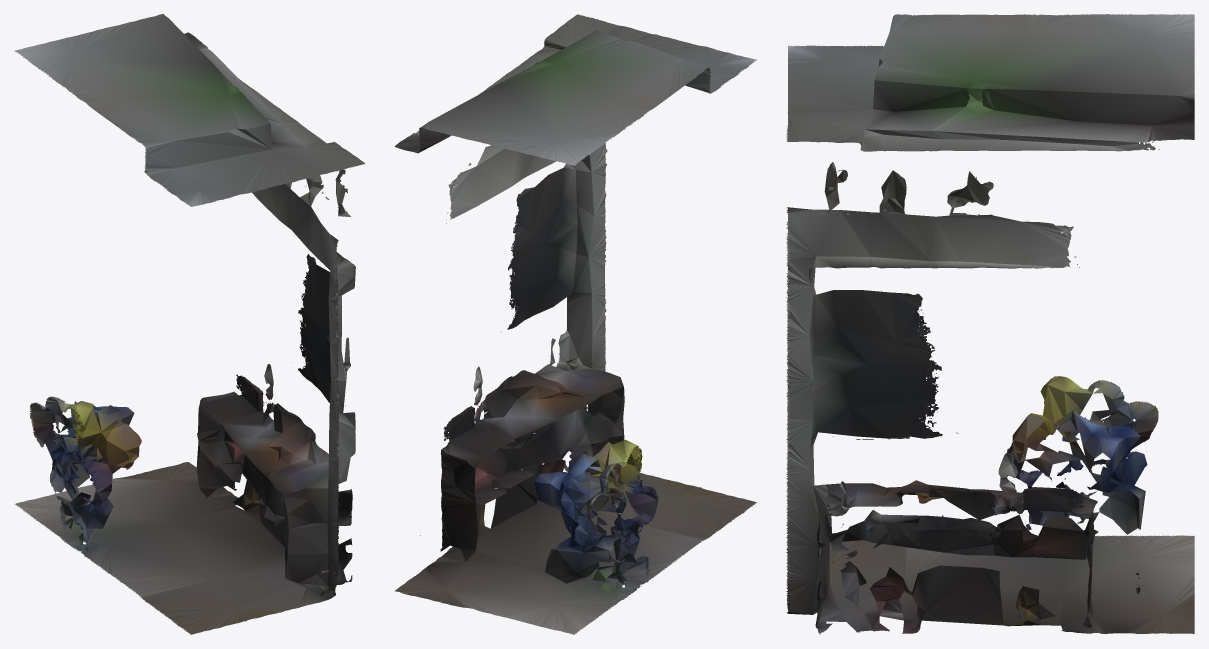
Rendered from coarse.glb.
3 views of the same model, side by side, from view 1: azimuth 30°, elevation 25°; view 2: azimuth 150°, elevation 25°; view 3: azimuth 270°, elevation 25° (orthographic). The views are drawn at different scales.
Size of the model in its own units: 1.23 by 3.09 by 2.17.
